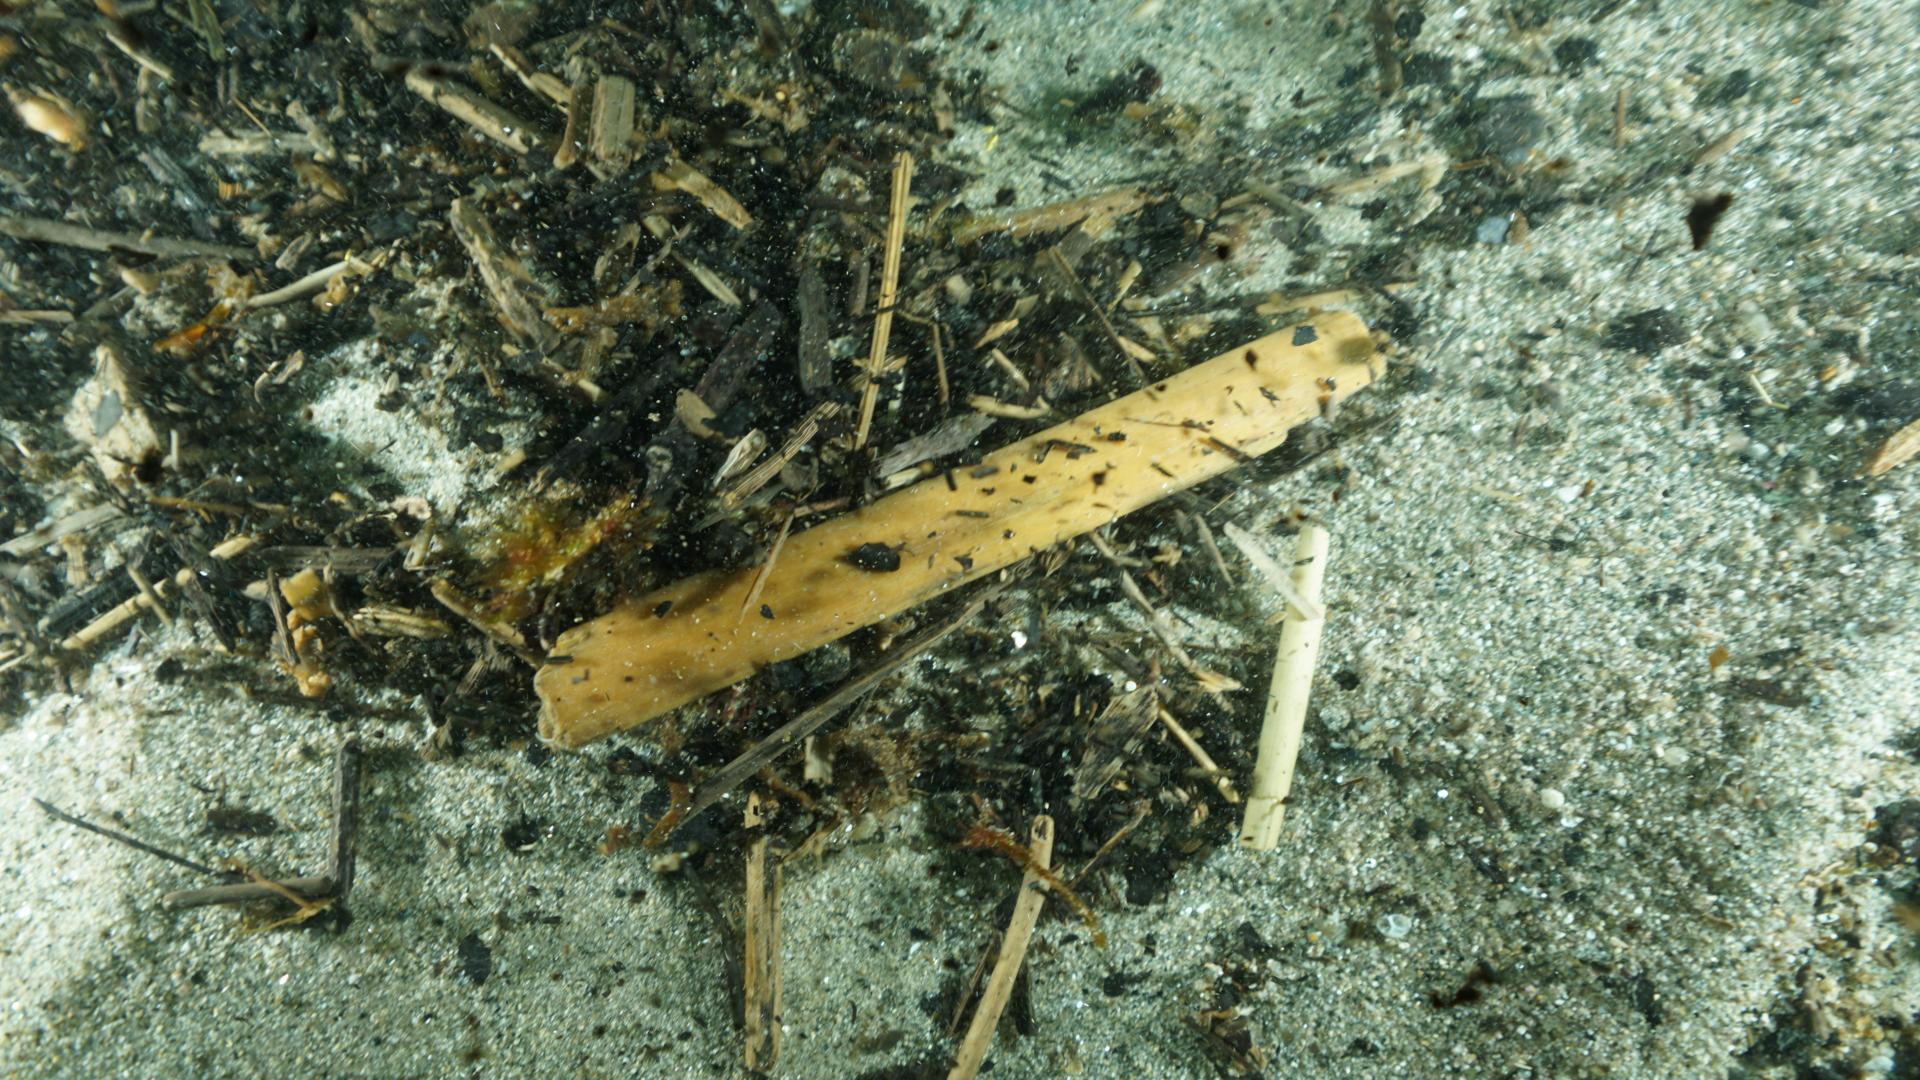wood: (533, 305, 1389, 752)
